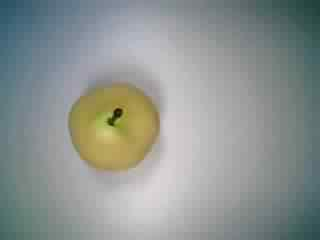pear: (61, 73, 166, 176)
